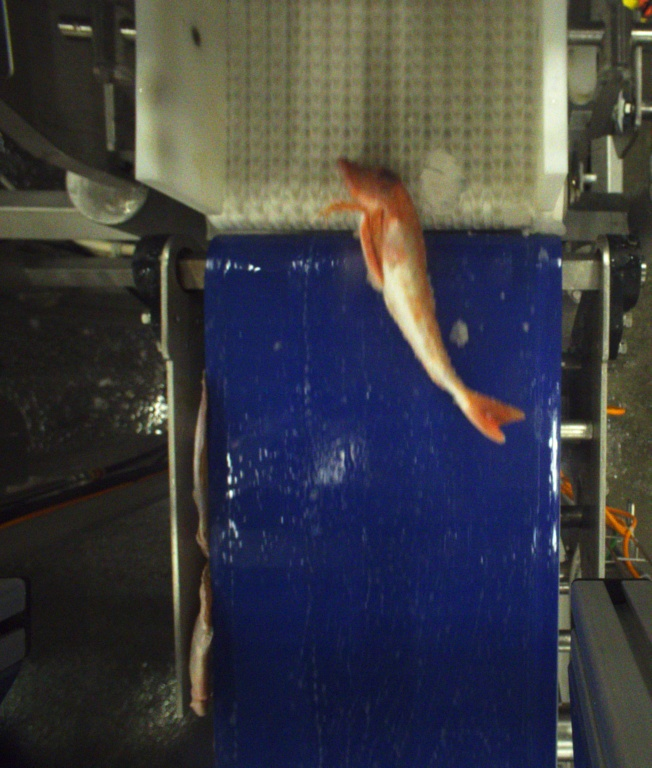GUU: (323, 156, 526, 442)
